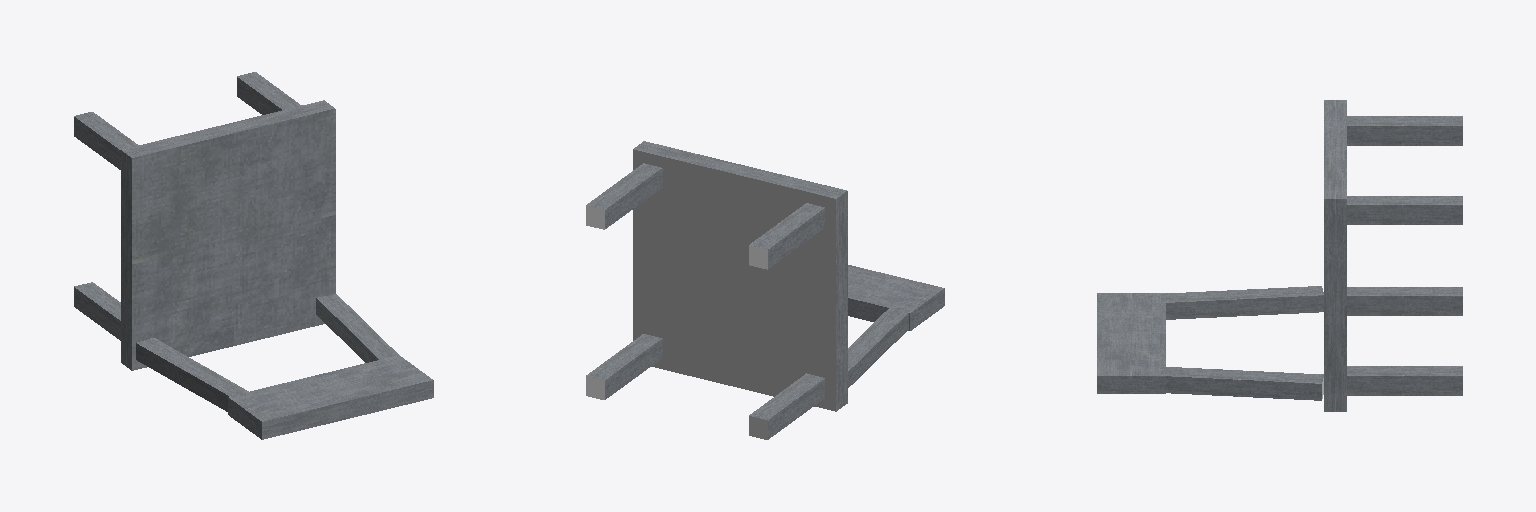
3 renders of one model, left to right at view 1: azimuth 30°, elevation 25°; view 2: azimuth 150°, elevation 25°; view 3: azimuth 270°, elevation 25°, orthographic.
Visible parts, largest first — view 1: Object.5, Object.8, Object.6, Object.7, Object.3, Object.1, Object.4; view 2: Object.5, Object.8, Object.2, Object.4, Object.1, Object.3, Object.6; view 3: Object.5, Object.8, Object.6, Object.7, Object.2, Object.3, Object.1, Object.4.
Boxes of the visible parts, x1=… form: Object.5: x1=121, y1=100, x2=335, y2=370; Object.8: x1=228, y1=355, x2=433, y2=439; Object.6: x1=136, y1=338, x2=250, y2=411; Object.7: x1=316, y1=294, x2=398, y2=362; Object.3: x1=74, y1=112, x2=138, y2=169; Object.1: x1=74, y1=282, x2=120, y2=340; Object.4: x1=237, y1=72, x2=301, y2=114; Object.5: x1=633, y1=141, x2=847, y2=411; Object.8: x1=848, y1=265, x2=944, y2=330; Object.2: x1=586, y1=334, x2=662, y2=399; Object.4: x1=586, y1=163, x2=662, y2=229; Object.1: x1=749, y1=373, x2=824, y2=439; Object.3: x1=749, y1=203, x2=824, y2=269; Object.6: x1=848, y1=307, x2=910, y2=387; Object.5: x1=1324, y1=100, x2=1346, y2=411; Object.8: x1=1097, y1=293, x2=1165, y2=393; Object.6: x1=1160, y1=286, x2=1323, y2=319; Object.7: x1=1160, y1=367, x2=1323, y2=400; Object.2: x1=1347, y1=366, x2=1462, y2=395; Object.3: x1=1347, y1=116, x2=1462, y2=145; Object.1: x1=1347, y1=287, x2=1462, y2=315; Object.4: x1=1347, y1=196, x2=1462, y2=224.
Bounding box in the file's own units: 49.94 × 49.93 × 77.68.
2 materials, 1 textured.